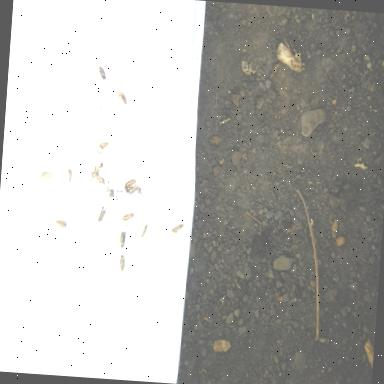pbw: (116, 90, 128, 109), (94, 64, 106, 82), (171, 222, 187, 234), (54, 219, 68, 230), (120, 211, 134, 222), (90, 164, 100, 178), (118, 230, 125, 248), (124, 177, 136, 187), (39, 170, 52, 179), (97, 208, 105, 222), (118, 254, 124, 271), (140, 223, 147, 237), (66, 168, 72, 183), (93, 176, 104, 184), (128, 186, 138, 194), (98, 141, 108, 147)
